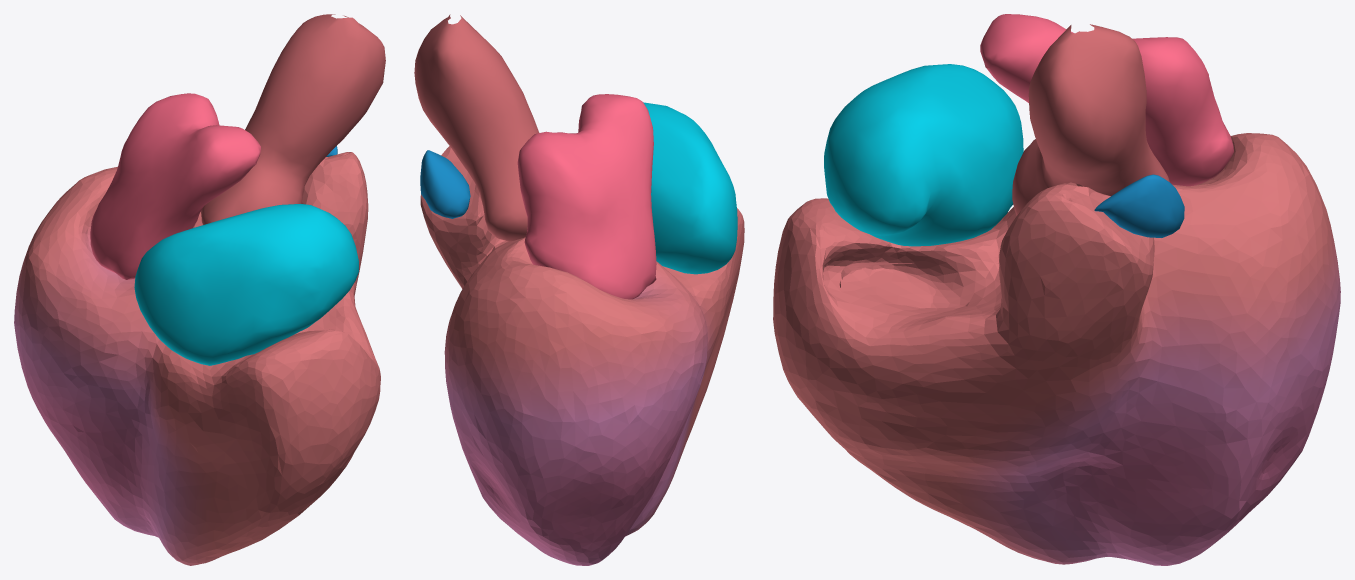
Rendered from frame_46.glb.
3 renders of one model, left to right at view 1: azimuth 30°, elevation 25°; view 2: azimuth 150°, elevation 25°; view 3: azimuth 270°, elevation 25°, orthographic. The views are drawn at different scales.
Visible parts, largest first — view 1: Renderer Node; view 2: Renderer Node; view 3: Renderer Node.
Part boxes in pixels (x1,y1,x2,y2): Renderer Node: (14,14,385,565); Renderer Node: (414,14,744,565); Renderer Node: (773,14,1340,565).
Size of the model in its own units: 103 by 158 by 128.
